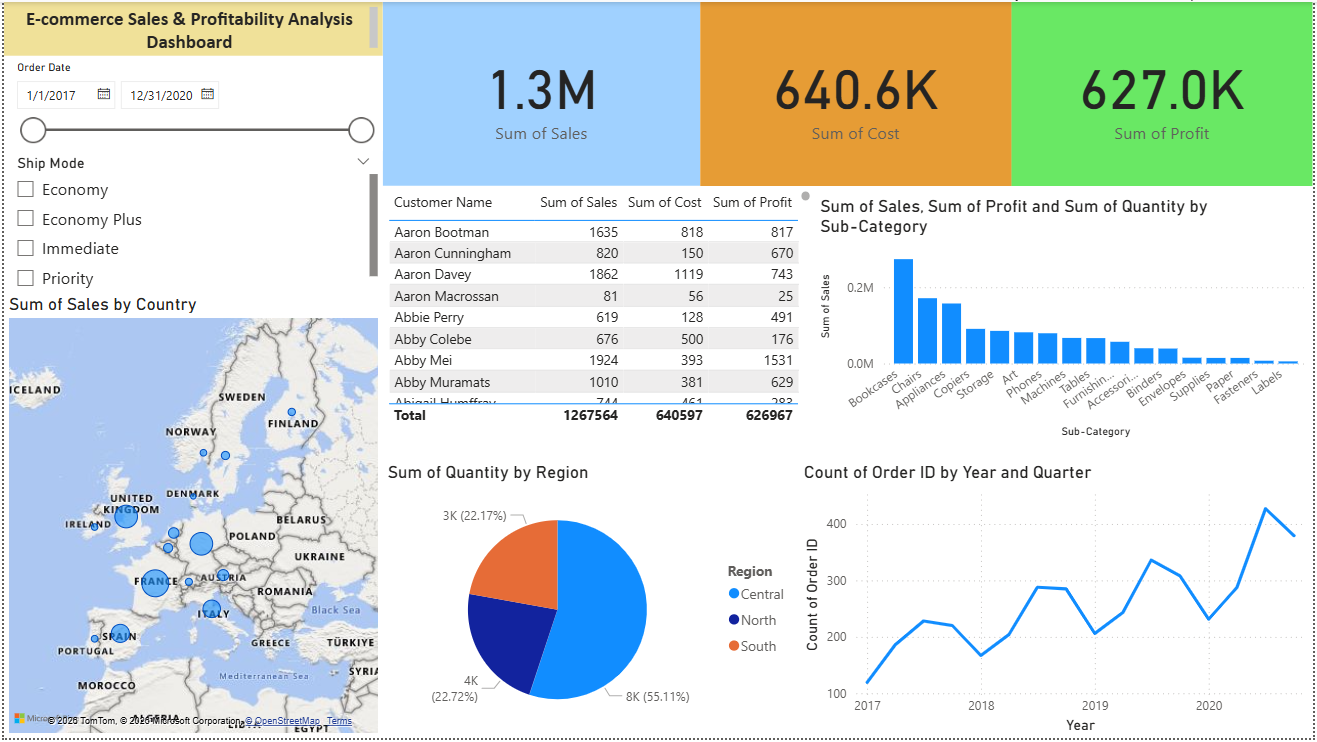

Layout of this report page (visuals, bound fields, positions):
{"tool":"powerbi","page":{"name":"Page 1","canvas":[1280,720],"ordinal":0},"visuals":[{"type":"card","fields":{"Values":["Sum(List of Orders.Sales)"]},"box":[370.5,0,310.6,179.8],"z":0},{"type":"tableEx","fields":{"Values":["List of Orders.Customer Name","Sum(List of Orders.Sales)","Sum(List of Orders.Cost)","Sum(List of Orders.Profit)"]},"box":[370.5,179.8,423.1,238.5],"z":1000},{"type":"card","fields":{"Values":["Sum(List of Orders.Cost)"]},"box":[681.1,0,304.5,179.8],"z":2000},{"type":"card","fields":{"Values":["Sum(List of Orders.Profit)"]},"box":[985.6,0,294.7,179.8],"z":3000},{"type":"clusteredColumnChart","fields":{"Category":["List of Orders.Sub-Category"],"Y":["Sum(List of Orders.Sales)"]},"box":[793.6,189.5,486.7,242.1],"z":4000},{"type":"lineChart","fields":{"Y":["CountNonNull(List of Orders.Order ID)"],"Category":["List of Orders.Order Date.Variation.Date Hierarchy.Year","List of Orders.Order Date.Variation.Date Hierarchy.Quarter"]},"box":[777.7,450,502.6,270.2],"z":5000},{"type":"pieChart","fields":{"Y":["Sum(List of Orders.Quantity)"],"Category":["List of Orders.Region"]},"box":[370.5,450,407.2,270.2],"z":6000},{"type":"map","fields":{"Category":["List of Orders.Country"],"Size":["Sum(List of Orders.Sales)"]},"box":[0,284.9,370.5,435.3],"z":7000},{"type":"textbox","box":[0,0,370.5,52.6],"z":8000},{"type":"slicer","fields":{"Values":["List of Orders.Ship Mode"]},"box":[0,144.3,370.5,140.6],"z":9000},{"type":"slicer","fields":{"Values":["List of Orders.Order Date"]},"box":[0,52.6,370.5,91.7],"z":10000}]}

Visuals, with their boxes in screenshot pixels (x1, y1, x2, y2), scaled from the page's 1280x720 canvas onto the 1317x742 screenshot:
card - Sum(List of Orders.Sales): (x1=381, y1=0, x2=701, y2=185)
tableEx - List of Orders.Customer Name x Sum(List of Orders.Sales): (x1=381, y1=185, x2=817, y2=431)
card - Sum(List of Orders.Cost): (x1=701, y1=0, x2=1014, y2=185)
card - Sum(List of Orders.Profit): (x1=1014, y1=0, x2=1316, y2=185)
clusteredColumnChart - List of Orders.Sub-Category x Sum(List of Orders.Sales): (x1=817, y1=195, x2=1316, y2=445)
lineChart - CountNonNull(List of Orders.Order ID) x List of Orders.Order Date.Variation.Date Hierarchy.Year: (x1=800, y1=464, x2=1316, y2=741)
pieChart - Sum(List of Orders.Quantity) x List of Orders.Region: (x1=381, y1=464, x2=800, y2=741)
map - List of Orders.Country x Sum(List of Orders.Sales): (x1=0, y1=294, x2=381, y2=741)
textbox: (x1=0, y1=0, x2=381, y2=54)
slicer - List of Orders.Ship Mode: (x1=0, y1=149, x2=381, y2=294)
slicer - List of Orders.Order Date: (x1=0, y1=54, x2=381, y2=149)
